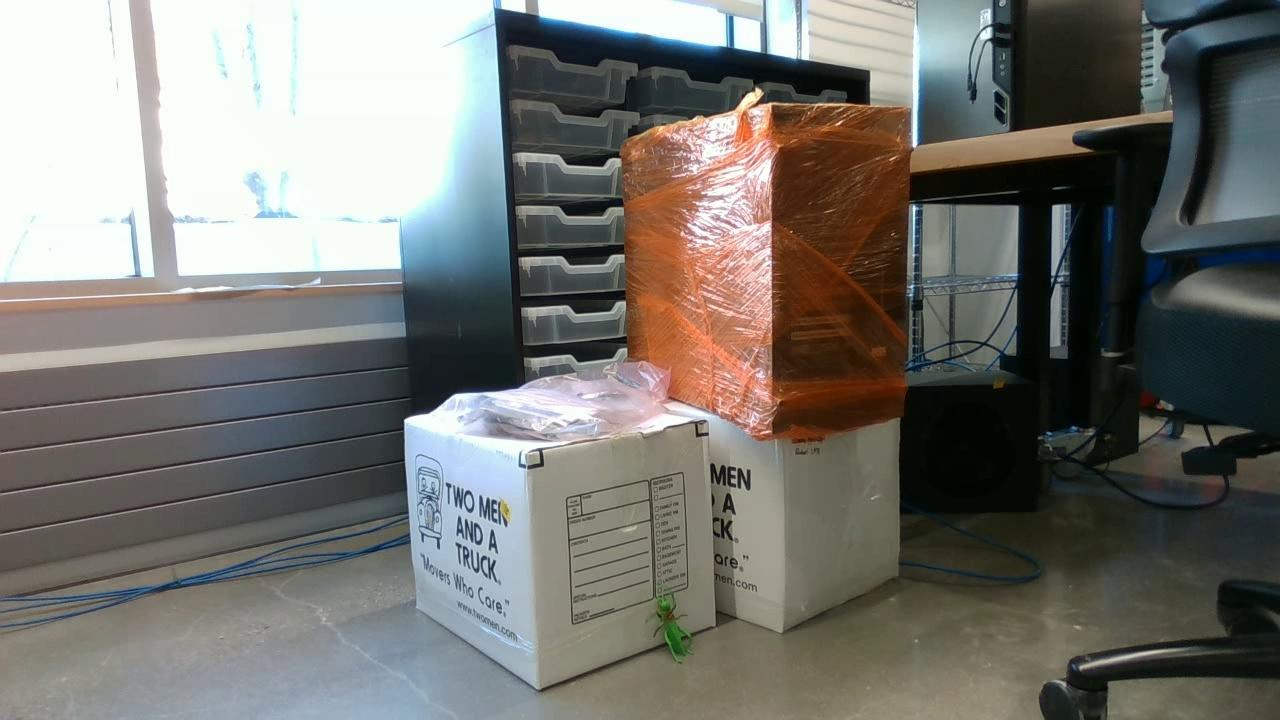grasshopper: (642, 594, 692, 664)
